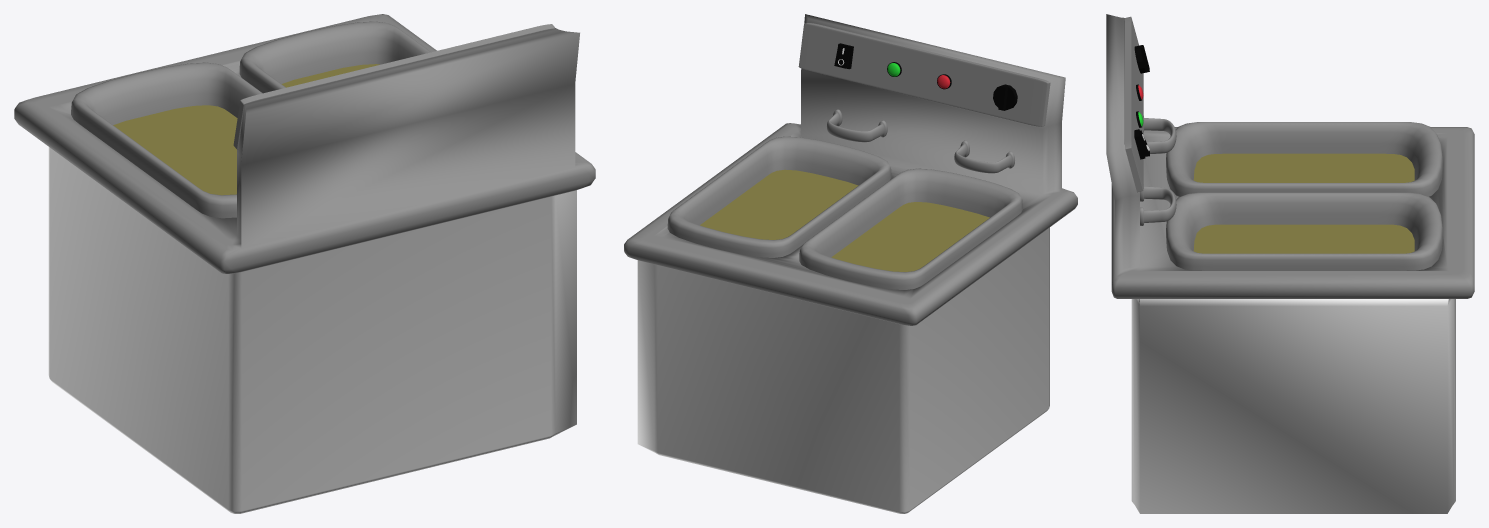
Rendered from DeepFryer.glb.
The picture shows the model from 3 angles, left to right: view 1: azimuth 30°, elevation 25°; view 2: azimuth 150°, elevation 25°; view 3: azimuth 270°, elevation 25°; orthographic projection. The views are drawn at different scales.
Parts seen in each view (by area): view 1: Cylinder.004; view 2: Cylinder.004; view 3: Cylinder.004.
Boxes of the visible parts, x1=… form: Cylinder.004: x1=14, y1=14, x2=595, y2=513; Cylinder.004: x1=624, y1=14, x2=1077, y2=513; Cylinder.004: x1=1106, y1=14, x2=1474, y2=513.
Bounding box in the file's own units: 0.9205 × 0.9817 × 0.9092.
